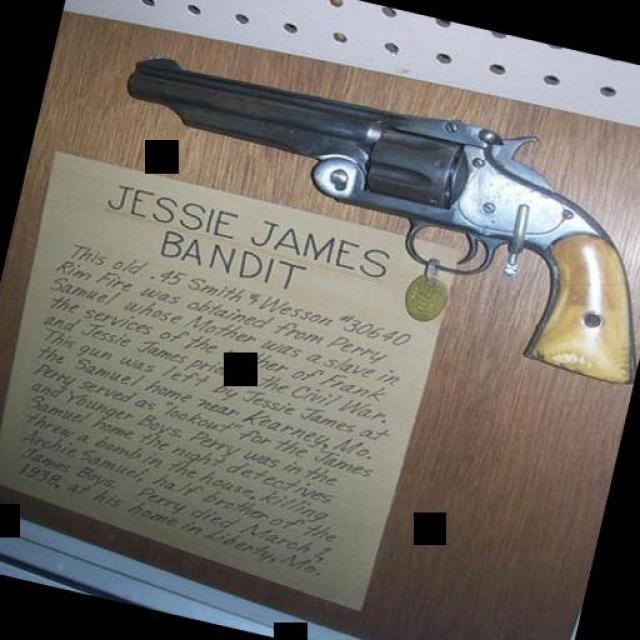gun: (82, 44, 640, 390)
